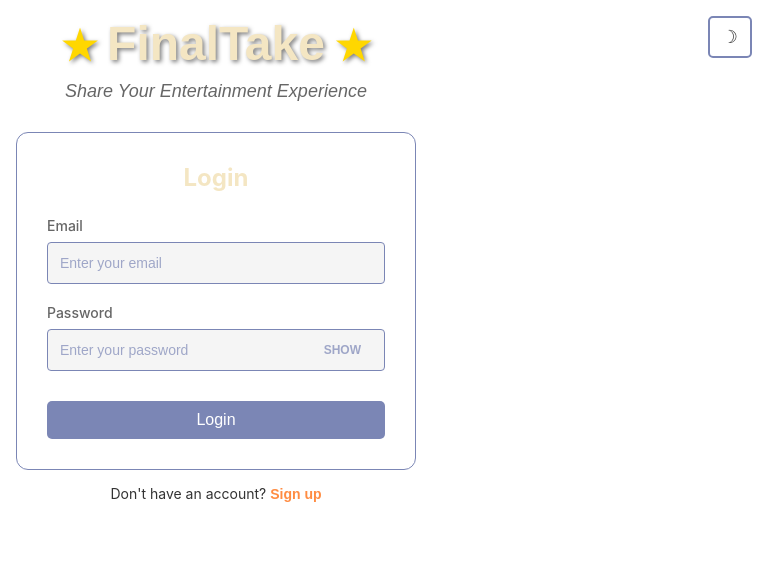
LoginPage › shows error message on failed login
Type "wrong@test.com" into the field labelled "Email".
click(216, 263); type("wrong@test.com")  # box [47,242,385,284]
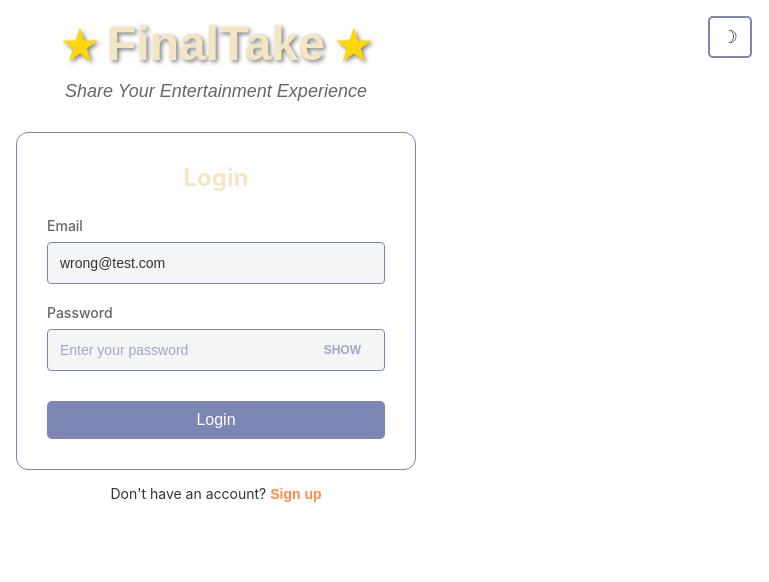
Type "wrongpassword" into the password field labelled "Password".
click(216, 350); type("wrongpassword")  # box [47,329,385,371]
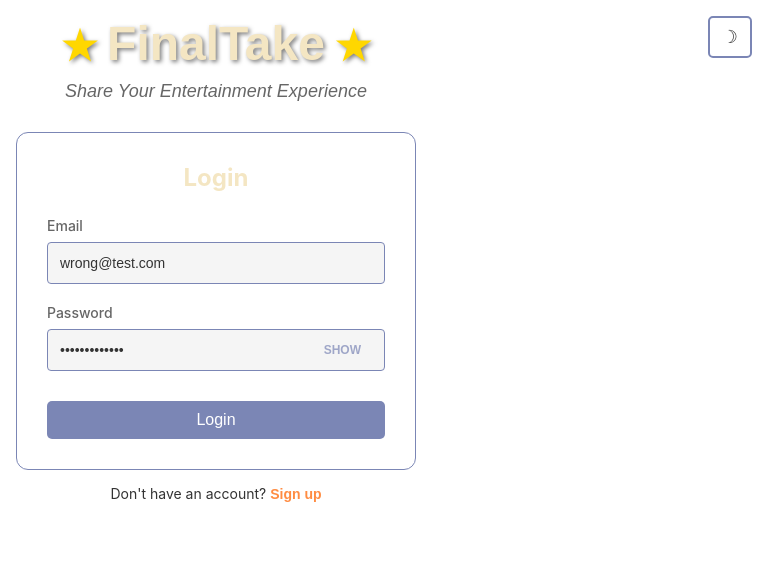
Click the button "Login".
click(216, 420)  # box [47,401,385,439]
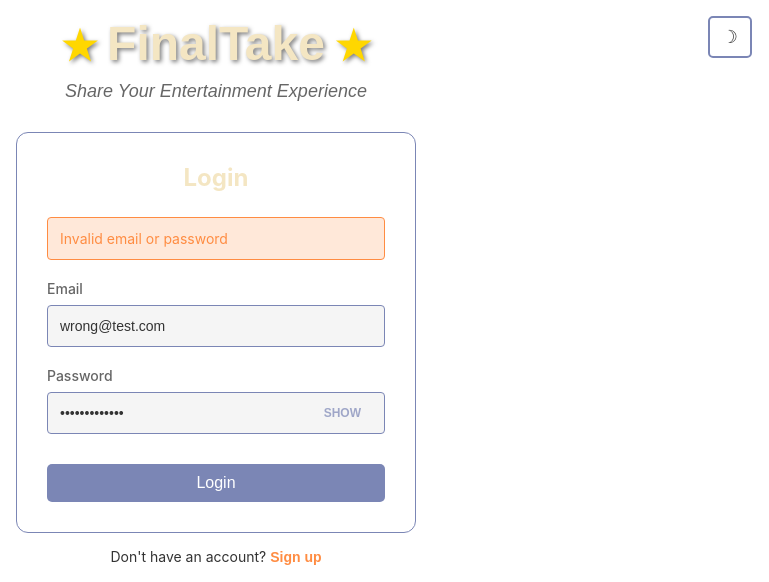
expect the text "Invalid email or password" is shown: met, box [47,217,385,260]
